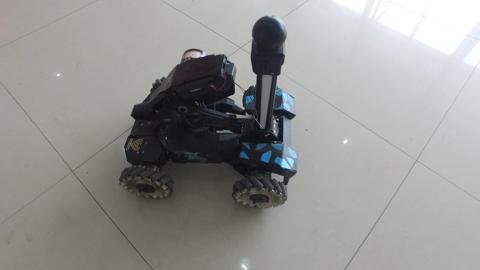chariot: (117, 34, 301, 204)
